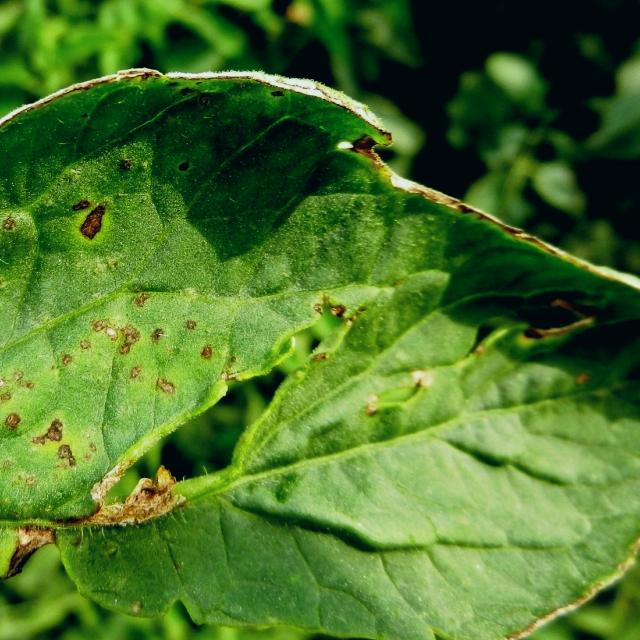Tomato leaf bacterial spot: (0, 38, 640, 632)
